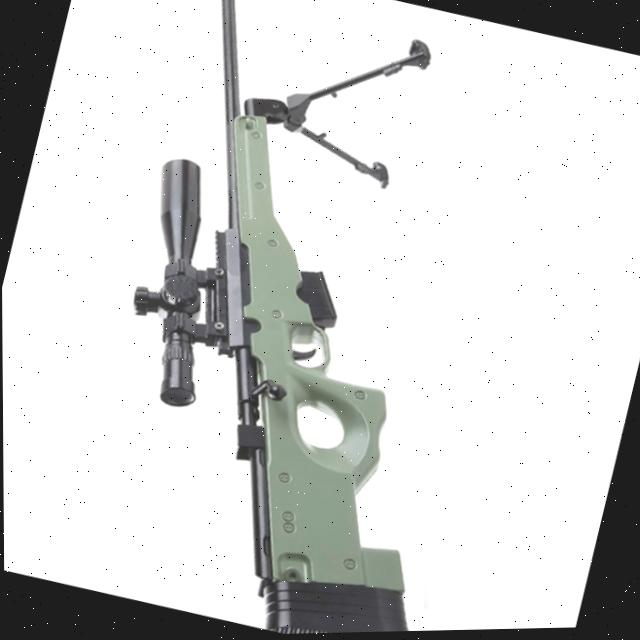firearm: (52, 0, 568, 639)
